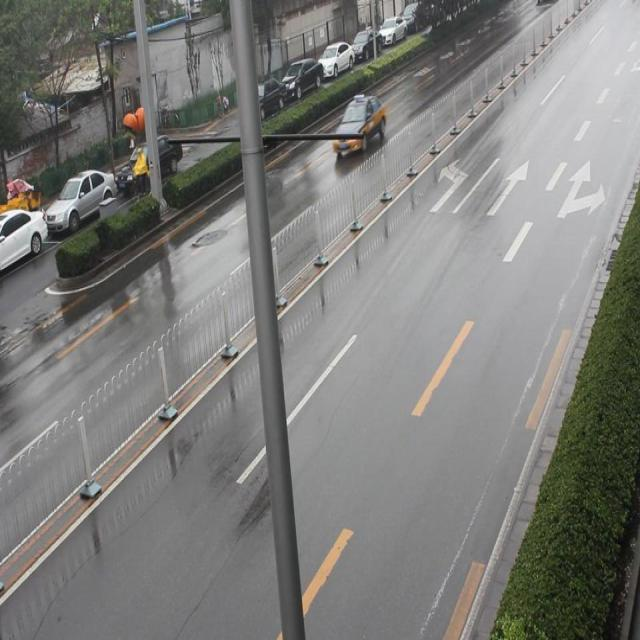car: (334, 90, 384, 161)
